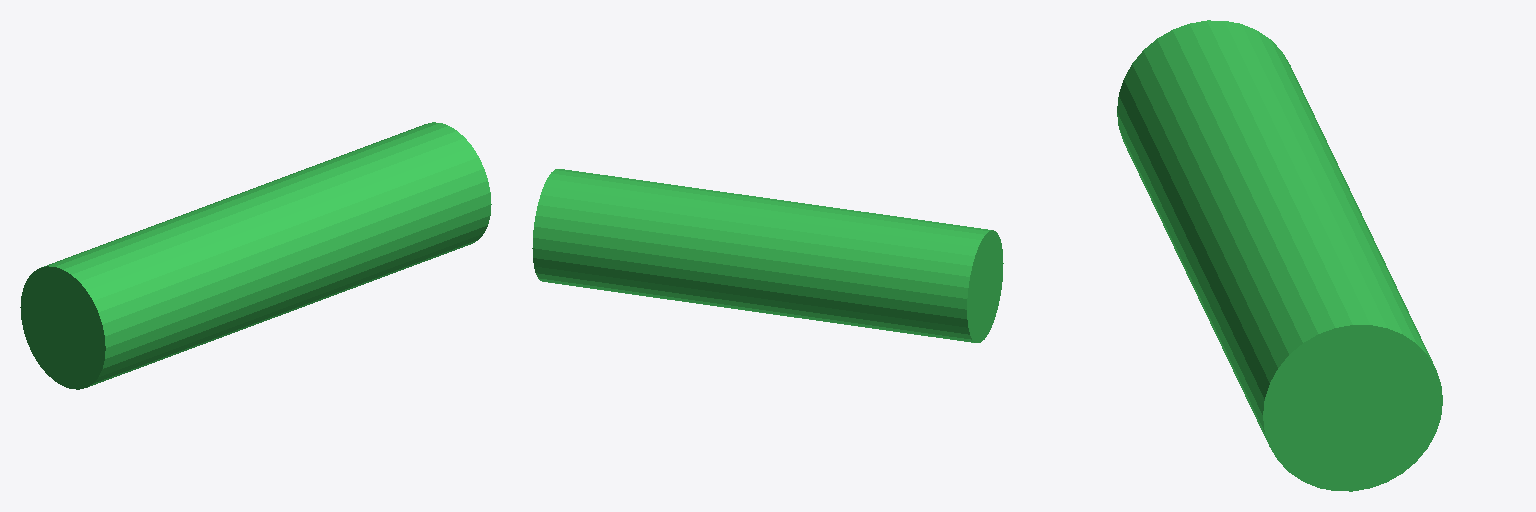
URDF robot description (panda_hand):
<?xml version='1.0' encoding='utf-8'?>
<robot name="panda_hand">

    <link name="link0">
      <inertial>
        <origin xyz="0 0 0.05" rpy="0 0 0" />
        <mass value="4" />
        <inertia ixx="0.4" iyy="0.4" izz="0.4" ixy="0" ixz="0" iyz="0" />
      </inertial>
      <visual>
        <geometry>
          <mesh filename="../../../Model/meshes/link0.obj"/>
        </geometry>
      </visual>
<!--       <collision>
        <geometry>
          <mesh filename="../../../Model/meshes/link0.obj"/>
        </geometry>
      </collision> -->
    </link>
    <link name="link1">
      <inertial>
        <origin xyz="0 0 -0.07" rpy="0 -0 0" />
        <mass value="3" />
        <inertia ixx="0.3" iyy="0.3" izz="0.3" ixy="0" ixz="0" iyz="0" />
      </inertial>
      <visual>
        <geometry>
          <mesh filename="../../../Model/meshes/link1.obj"/>
        </geometry>
      </visual>
      <!-- <collision>
        <geometry>
          <mesh filename="../../../Model/meshes/link1.obj"/>
        </geometry>
      </collision> -->
    </link>
    <link name="link2">
      <inertial>
        <origin xyz="0 -0.1 0" rpy="0 -0 0" />
        <mass value="3" />
        <inertia ixx="0.3" iyy="0.3" izz="0.3" ixy="0" ixz="0" iyz="0" />
      </inertial>
      <visual>
        <geometry>
          <mesh filename="../../../Model/meshes/link2.obj"/>
        </geometry>
      </visual>
      <!-- <collision>
        <geometry>
          <mesh filename="../../../Model/meshes/link2.obj"/>
        </geometry>
      </collision> -->
    </link>
    <link name="link3">
      <inertial>
        <origin xyz="0.04 0 -0.05" rpy="0 -0 0" />
        <mass value="2" />
        <inertia ixx="0.2" iyy="0.2" izz="0.2" ixy="0" ixz="0" iyz="0" />
      </inertial>
      <visual>
        <geometry>
          <mesh filename="../../../Model/meshes/link3.obj"/>
        </geometry>
      </visual>
      <!-- <collision>
        <geometry>
          <mesh filename="../../../Model/meshes/link3.obj"/>
        </geometry>
      </collision> -->
    </link>
    <link name="link4">
      <inertial>
        <origin xyz="-0.04 0.05 0" rpy="0 -0 0" />
        <mass value="2" />
        <inertia ixx="0.2" iyy="0.2" izz="0.2" ixy="0" ixz="0" iyz="0" />
      </inertial>
      <visual>
        <geometry>
          <mesh filename="../../../Model/meshes/link4.obj"/>
        </geometry>
      </visual>
<!--       <collision>
        <geometry>
          <mesh filename="../../../Model/meshes/link4.obj"/>
        </geometry>
      </collision> -->
    </link>
    <link name="link5">
      <inertial>
        <origin xyz="0 0 -0.15" rpy="0 -0 0" />
        <mass value="2" />
        <inertia ixx="0.2" iyy="0.2" izz="0.2" ixy="0" ixz="0" iyz="0" />
      </inertial>
      <visual>
        <geometry>
          <mesh filename="../../../Model/meshes/link5.obj"/>
        </geometry>
      </visual>
      <visual>
        <origin xyz="0.0 0.0 -0.3" rpy="-0.2 0.0 0.0" />
        <geometry>
          <cylinder radius="0.05" length="0.4" />
        </geometry>
        <material name="material_gray">
          <color rgba="0.3 0.8 0.4 0.1" />
        </material>
      </visual>
      <collision>
        <origin xyz="0.0 0.0 -0.3" rpy="-0.2 0.0 0.0" />
        <geometry>
          <cylinder radius="0.05" length="0.4" />
        </geometry>
      </collision>
<!--       <collision>
        <geometry>
          <mesh filename="../../../Model/meshes/link5.obj"/>
        </geometry>
      </collision> -->
    </link>
    <link name="link6">
      <inertial>
        <origin xyz="0.06 0 0" rpy="0 -0 0" />
        <mass value="1.5" />
        <inertia ixx="0.1" iyy="0.1" izz="0.1" ixy="0" ixz="0" iyz="0" />
      </inertial>
      <visual>
        <geometry>
          <mesh filename="../../../Model/meshes/link6.obj"/>
        </geometry>
      </visual>
      <!-- <collision>
        <geometry>
          <mesh filename="../../../Model/meshes/link6.obj"/>
        </geometry>
      </collision> -->
    </link>
    <link name="link7">
      <inertial>
        <origin xyz="0 0 0.17" rpy="0 -0 0" />
        <mass value="1.8" />
        <inertia ixx="0.09" iyy="0.05" izz="0.07" ixy="0" ixz="0" iyz="0" />
      </inertial>
      <visual>
        <origin xyz="0 0 0" rpy="0 0 0" />
        <geometry>
          <mesh filename="../../../Model/meshes/link7.obj"/>
        </geometry>
      </visual>
      <!-- <collision>
        <geometry>
          <mesh filename="../../../Model/meshes/link7.obj"/>
        </geometry>
      </collision> -->
      <visual>
        <origin xyz="0 0 0.107" rpy="0 0 -0.78539816339" />
        <geometry>
          <mesh filename="../../../Model/meshes/hand.obj"/>
        </geometry>
      </visual>
<!--       <collision>
        <origin xyz="0 0 0.107" rpy="0 0 0" />
        <geometry>
          <mesh filename="../../../Model/meshes/hand.obj"/>
        </geometry>
      </collision> -->
    </link>
    <link name="leftfinger">
      <inertial>
        <origin xyz="0 0 0.05" rpy="0 -0 0" />
        <mass value="0.1" />
        <inertia ixx="0.01" iyy="0.01" izz="0.005" ixy="0" ixz="0" iyz="0" />
      </inertial>
      <visual>
        <geometry>
          <mesh filename="../../../Model/meshes/finger.obj"/>
        </geometry>
      </visual>
      <collision>
        <geometry>
          <mesh filename="../../../Model/meshes/finger.obj"/>
        </geometry>
      </collision>
    </link>
    <link name="rightfinger">
      <inertial>
        <origin xyz="0 0 0.05" rpy="0 -0 0" />
        <mass value="0.1" />
        <inertia ixx="0.01" iyy="0.01" izz="0.005" ixy="0" ixz="0" iyz="0" />
      </inertial>
      <visual>
        <origin xyz="0 0 0" rpy="0 0 3.14159265359"/>
        <geometry>
          <mesh filename="../../../Model/meshes/finger.obj"/>
        </geometry>
      </visual>
      <collision>
        <origin xyz="0 0 0" rpy="0 0 3.14159265359"/>
        <geometry>
          <mesh filename="../../../Model/meshes/finger.obj"/>
        </geometry>
      </collision>
    </link>
    <joint name="joint1" type="revolute">
      <safety_controller k_position="100.0" k_velocity="40.0" soft_lower_limit="-2.8973" soft_upper_limit="2.8973"/>
      <origin rpy="0 0 0" xyz="0 0 0.333"/>
      <parent link="link0"/>
      <child link="link1"/>
      <axis xyz="0 0 1"/>
      <limit effort="87" lower="-2.8973" upper="2.8973" velocity="2.1750"/>
    </joint>
    <joint name="joint2" type="revolute">
      <safety_controller k_position="100.0" k_velocity="40.0" soft_lower_limit="-1.7628" soft_upper_limit="1.7628"/>
      <origin rpy="-1.57079632679 0 0" xyz="0 0 0"/>
      <parent link="link1"/>
      <child link="link2"/>
      <axis xyz="0 0 1"/>
      <calibration falling="-45.0" />
      <limit effort="87" lower="-1.7628" upper="1.7628" velocity="2.1750"/>
    </joint>
    <joint name="joint3" type="revolute">
      <safety_controller k_position="100.0" k_velocity="40.0" soft_lower_limit="-2.8973" soft_upper_limit="2.8973"/>
      <origin rpy="1.57079632679 0 0" xyz="0 -0.316 0"/>
      <parent link="link2"/>
      <child link="link3"/>
      <axis xyz="0 0 1"/>
      <limit effort="87" lower="-2.8973" upper="2.8973" velocity="2.1750"/>
    </joint>
    <joint name="joint4" type="revolute">
      <safety_controller k_position="100.0" k_velocity="40.0" soft_lower_limit="-3.0718" soft_upper_limit="-0.0698"/>
      <origin rpy="1.57079632679 0 0" xyz="0.0825 0 0"/>
      <parent link="link3"/>
      <child link="link4"/>
      <axis xyz="0 0 1"/>
      <calibration falling="-125.0" />
      <limit effort="87" lower="-3.0718" upper="-0.0698" velocity="2.1750"/>
    </joint>
    <joint name="joint5" type="revolute">
      <safety_controller k_position="100.0" k_velocity="40.0" soft_lower_limit="-2.8973" soft_upper_limit="2.8973"/>
      <origin rpy="-1.57079632679 0 0" xyz="-0.0825 0.384 0"/>
      <parent link="link4"/>
      <child link="link5"/>
      <axis xyz="0 0 1"/>
      <limit effort="12" lower="-2.8973" upper="2.8973" velocity="2.6100"/>
    </joint>
    <joint name="joint6" type="revolute">
      <safety_controller k_position="100.0" k_velocity="40.0" soft_lower_limit="-0.0175" soft_upper_limit="3.7525"/>
      <origin rpy="1.57079632679 0 0" xyz="0 0 0"/>
      <parent link="link5"/>
      <child link="link6"/>
      <axis xyz="0 0 1"/>
      <calibration falling="130.0" />
      <limit effort="12" lower="-0.0175" upper="3.7525" velocity="2.6100"/>
    </joint>
    <joint name="joint7" type="revolute">
      <safety_controller k_position="100.0" k_velocity="40.0" soft_lower_limit="-2.8973" soft_upper_limit="2.8973"/>
      <origin rpy="1.57079632679 0 0" xyz="0.088 0 0"/>
      <parent link="link6"/>
      <child link="link7"/>
      <axis xyz="0 0 1"/>
      <limit effort="12" lower="-2.8973" upper="2.8973" velocity="2.6100"/>
    </joint>
    <joint name="finger_joint1" type="prismatic">
      <parent link="link7"/>
      <child link="leftfinger"/>
      <origin xyz="0 0 0.1654" rpy="0 0 -0.78539816339"/>
      <axis xyz="0 1 0"/>
      <calibration rising="0.02" />
      <limit effort="20" lower="0.0" upper="0.04" velocity="0.2"/>
    </joint>
    <joint name="finger_joint2" type="prismatic">
      <parent link="link7"/>
      <child link="rightfinger"/>
      <origin xyz="0 0 0.1654" rpy="0 0 -0.78539816339"/>
      <axis xyz="0 1 0"/>
      <calibration rising="-0.02" />
      <limit effort="20" lower="0.0" upper="0.04" velocity="0.2"/>
      <mimic joint="finger_joint1" />
    </joint>
<!--     <link name="link8"/>
    <joint name="joint8" type="fixed">
      <origin rpy="0 0 0" xyz="0 0 0.107"/>
      <parent link="link7"/>
      <child link="link8"/>
      <axis xyz="0 0 0"/>
    </joint> -->
  <!-- </xacro:macro> -->
</robot>

--- What the picture shows (computed from the rendered views, not written in the file) ---
3 views of the same robot in one strip: view 1: azimuth 30°, elevation 25°; view 2: azimuth 150°, elevation 25°; view 3: azimuth 270°, elevation 25° (orthographic).
Robot: panda_hand — 10 links, 9 joints (7 revolute, 2 prismatic); root link link0; default pose: joints at zero except 1 at the middle of their limits (joint4 = -1.57).
Links seen in each view (by area): view 1: link5; view 2: link5; view 3: link5.
Boxes of the visible links, bbox=[...] form: link5: bbox=[20, 122, 491, 389]; link5: bbox=[532, 169, 1003, 342]; link5: bbox=[1117, 20, 1442, 491].
Size in the robot's own frame: 0.4119 by 0.1775 by 0.1 metres.
Geometry: only primitive shapes (box / cylinder / sphere) drawn; not drawn: 11 mesh visuals (reference in a form the renderer does not follow).